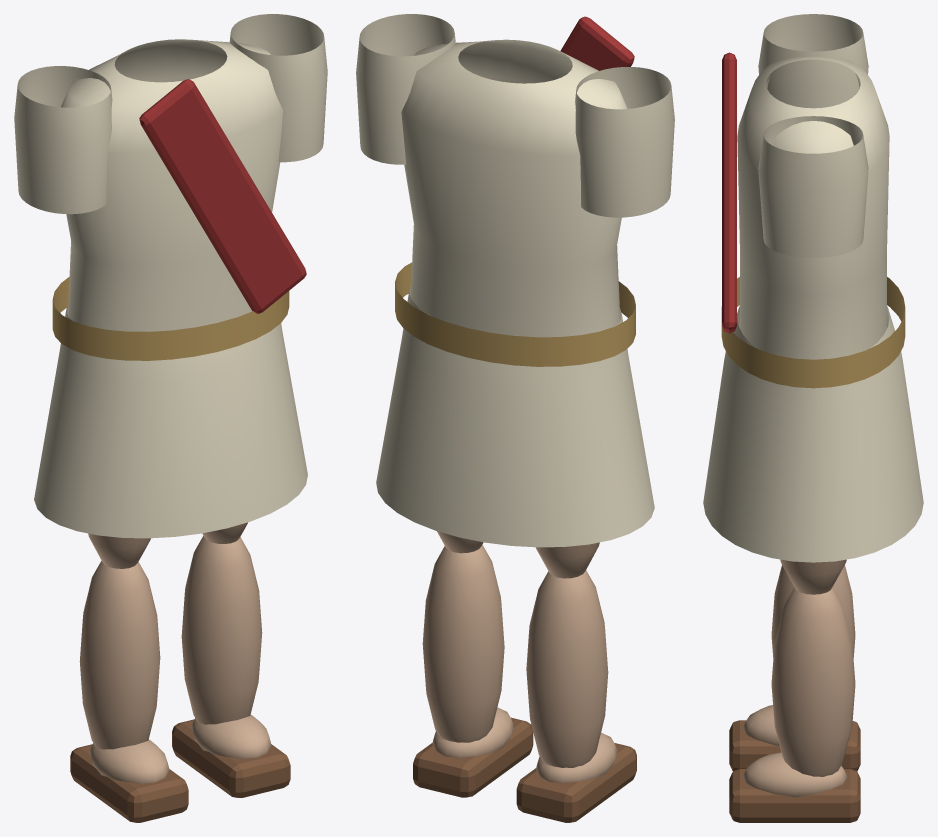
File: RomanCitizenOutfit.glb
3 views of the same model, side by side, from view 1: azimuth 30°, elevation 25°; view 2: azimuth 150°, elevation 25°; view 3: azimuth 270°, elevation 25° (orthographic). The views are drawn at different scales.
Visible parts, largest first — view 1: Hips_Draped hem, Chest_Tailored garment, Chest_Red toga sash, RightLowerLeg_Calf, LeftLowerLeg_Calf, RightUpperArm_Linen sleeve, LeftUpperArm_Linen sleeve, Hips_Woven belt, LeftFoot_Sandal, RightFoot_Sandal, LeftFoot_Foot, RightFoot_Foot (+1 smaller); view 2: Chest_Tailored garment, Hips_Draped hem, RightLowerLeg_Calf, LeftLowerLeg_Calf, RightUpperArm_Linen sleeve, LeftUpperArm_Linen sleeve, Hips_Woven belt, RightFoot_Sandal, LeftFoot_Sandal, Chest_Red toga sash, LeftFoot_Foot, RightFoot_Foot (+1 smaller); view 3: Hips_Draped hem, Chest_Tailored garment, LeftLowerLeg_Calf, LeftUpperArm_Linen sleeve, RightUpperArm_Linen sleeve, Hips_Woven belt, LeftFoot_Sandal, Chest_Red toga sash, LeftFoot_Foot, RightFoot_Sandal, RightLowerLeg_Calf, LeftUpperLeg_Thigh (+1 smaller).
Part boxes in pixels (x1,y1,x2,y2): Hips_Draped hem: (34,304,307,538); Chest_Tailored garment: (61,39,282,331); Chest_Red toga sash: (139,79,306,313); RightLowerLeg_Calf: (79,561,160,749); LeftLowerLeg_Calf: (181,536,262,724); RightUpperArm_Linen sleeve: (14,66,112,214); LeftUpperArm_Linen sleeve: (229,14,327,162); Hips_Woven belt: (52,276,289,360); LeftFoot_Sandal: (172,719,290,797); RightFoot_Sandal: (70,744,188,822); LeftFoot_Foot: (191,715,271,758); RightFoot_Foot: (89,739,169,783); Chest_Tailored garment: (401,39,627,337); Hips_Draped hem: (376,285,654,547); RightLowerLeg_Calf: (526,570,608,767); LeftLowerLeg_Calf: (422,545,504,742); RightUpperArm_Linen sleeve: (575,67,674,217); LeftUpperArm_Linen sleeve: (356,14,455,164); Hips_Woven belt: (395,262,635,366); RightFoot_Sandal: (516,743,636,822); LeftFoot_Sandal: (413,717,533,797); Chest_Red toga sash: (560,16,634,70); LeftFoot_Foot: (432,707,513,757); RightFoot_Foot: (536,732,617,783); Hips_Draped hem: (703,306,923,562); Chest_Tailored garment: (737,56,889,359); LeftLowerLeg_Calf: (771,587,855,776); LeftUpperArm_Linen sleeve: (758,116,868,257); RightUpperArm_Linen sleeve: (758,14,868,108); Hips_Woven belt: (721,277,905,388); LeftFoot_Sandal: (729,769,860,822); Chest_Red toga sash: (722,52,736,333); LeftFoot_Foot: (743,752,847,797); RightFoot_Sandal: (729,720,860,771); RightLowerLeg_Calf: (771,565,855,657); LeftUpperLeg_Thigh: (780,559,846,594).
Size of the model in its own units: 0.64 by 1.52 by 0.42.
